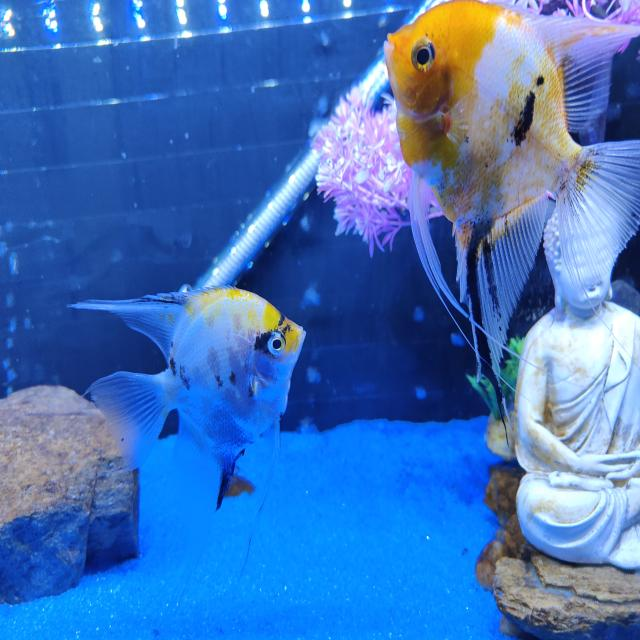Fish: (385, 0, 639, 376), (71, 287, 305, 508)
